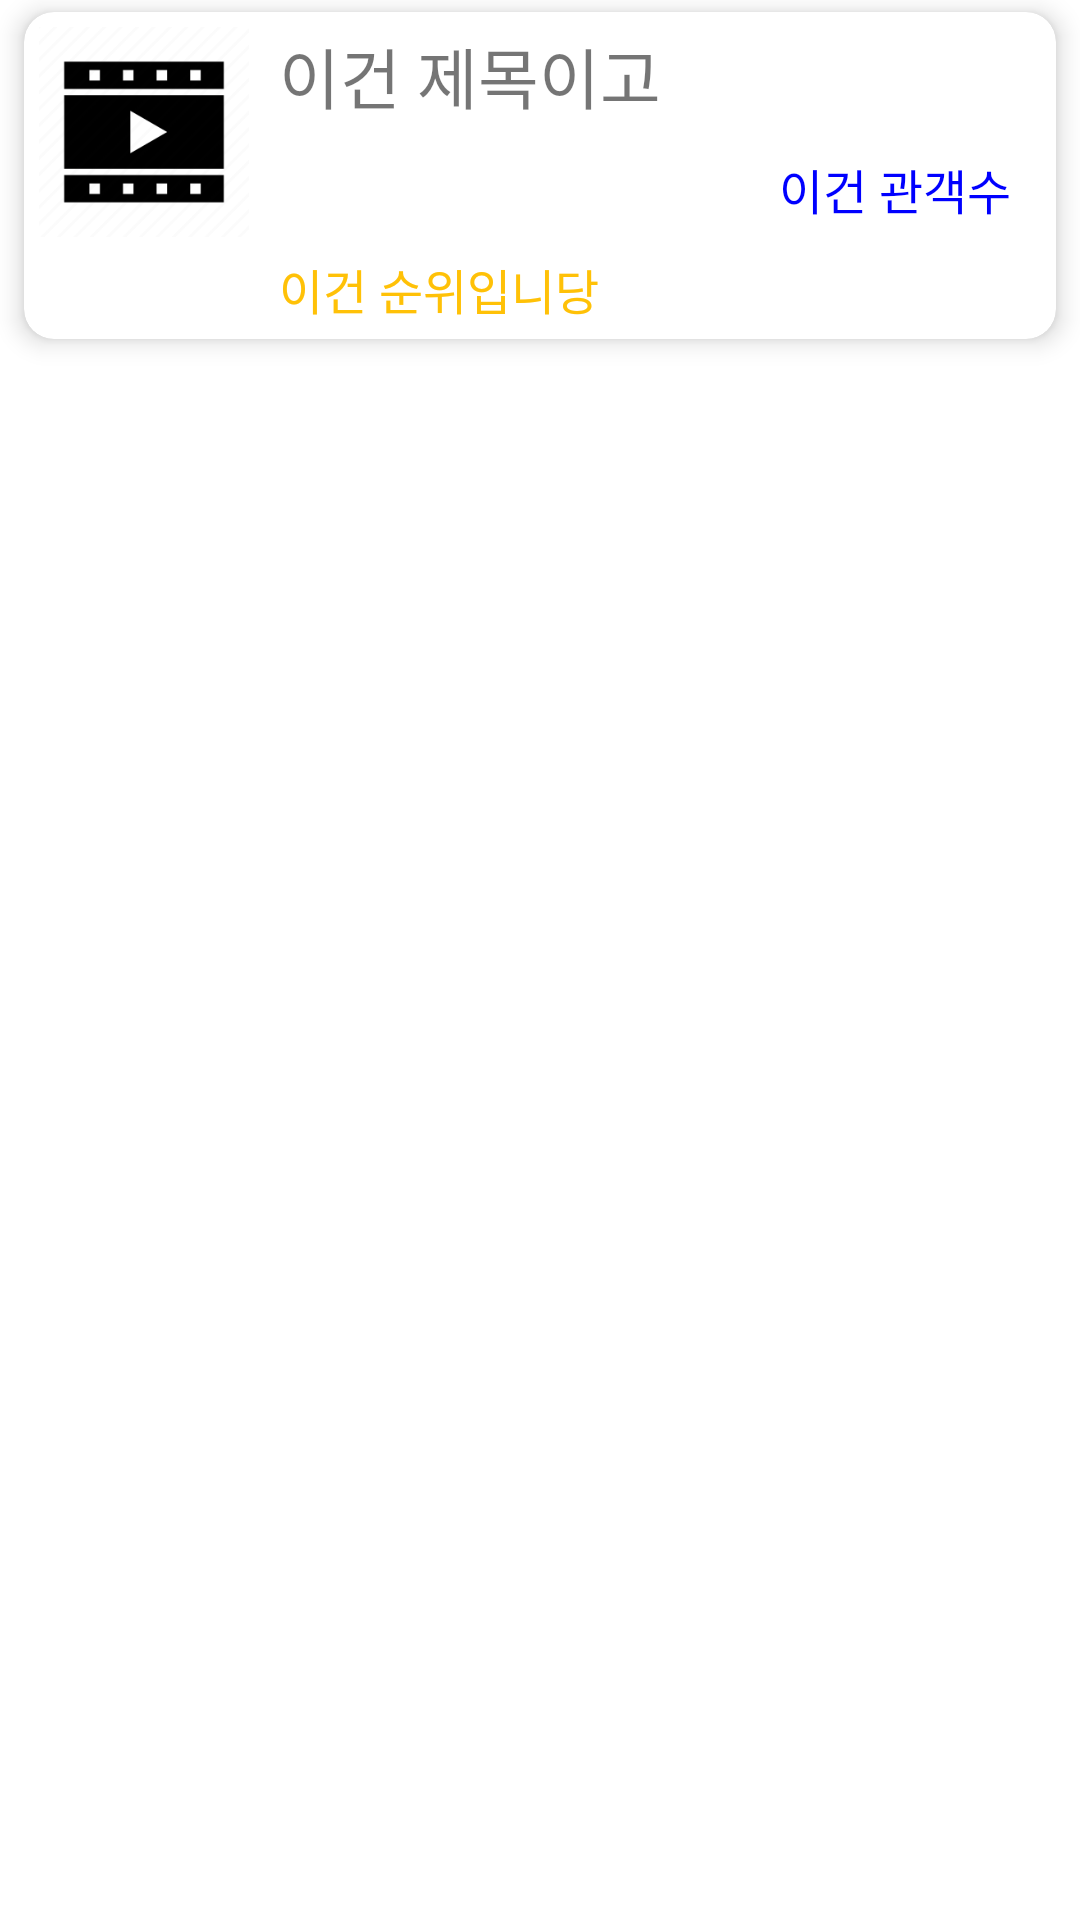

Icons on this 1080×1920 Android screen, each with its box as (x1, y1, x2, y2):
movie: (45, 12, 225, 203)
